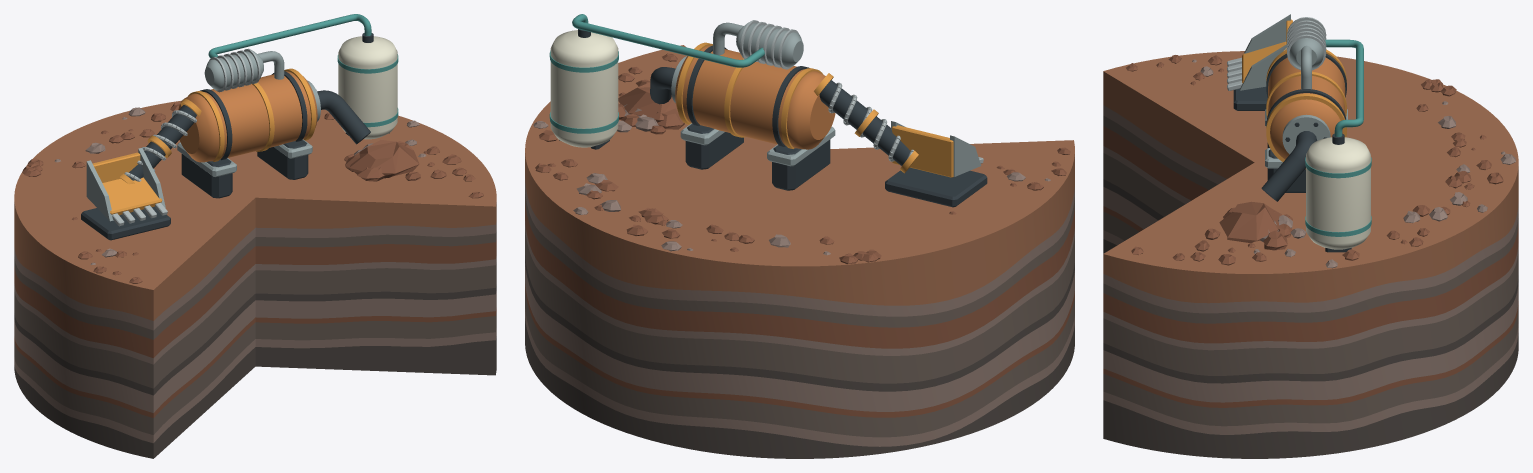
The model's file is p1_zone_c_gale_clay_kiln.glb.
3 renders of one model, left to right at view 1: azimuth 30°, elevation 25°; view 2: azimuth 150°, elevation 25°; view 3: azimuth 270°, elevation 25°, orthographic. The views are drawn at different scales.
Parts seen in each view (by area): view 1: Sedimentary beds, Regolith, Rotary kiln, Sampling scoop, Storage vessel, Surface clasts, Dry tailings, Inclined screw conveyor, Condenser, Condensate line, Chute; view 2: Sedimentary beds, Regolith, Rotary kiln, Storage vessel, Sampling scoop, Surface clasts, Inclined screw conveyor, Condenser, Dry tailings, Condensate line, Chute; view 3: Sedimentary beds, Regolith, Storage vessel, Rotary kiln, Surface clasts, Sampling scoop, Dry tailings, Condenser, Chute, Condensate line, Vapour riser.
Part boxes in pixels (left/top/right/bottom): Sedimentary beds: left=14, top=222, right=496, bottom=458; Regolith: left=14, top=100, right=496, bottom=320; Rotary kiln: left=177, top=68, right=321, bottom=198; Sampling scoop: left=81, top=148, right=170, bottom=240; Storage vessel: left=337, top=33, right=398, bottom=139; Surface clasts: left=22, top=102, right=483, bottom=283; Dry tailings: left=344, top=140, right=420, bottom=181; Inclined screw conveyor: left=119, top=98, right=201, bottom=184; Condenser: left=204, top=48, right=263, bottom=92; Condensate line: left=208, top=14, right=371, bottom=58; Chute: left=317, top=90, right=370, bottom=144; Sedimentary beds: left=525, top=179, right=1074, bottom=458; Regolith: left=525, top=45, right=1074, bottom=305; Rotary kiln: left=671, top=42, right=835, bottom=190; Storage vessel: left=549, top=29, right=618, bottom=149; Sampling scoop: left=885, top=121, right=987, bottom=207; Surface clasts: left=533, top=53, right=1070, bottom=263; Inclined screw conveyor: left=814, top=73, right=918, bottom=173; Condenser: left=736, top=20, right=803, bottom=69; Dry tailings: left=617, top=83, right=684, bottom=134; Condensate line: left=572, top=14, right=764, bottom=67; Chute: left=650, top=67, right=675, bottom=104; Sedimentary beds: left=1103, top=105, right=1518, bottom=458; Regolith: left=1103, top=51, right=1518, bottom=303; Storage vessel: left=1305, top=133, right=1371, bottom=252; Rotary kiln: left=1265, top=49, right=1347, bottom=192; Surface clasts: left=1126, top=55, right=1516, bottom=268; Sampling scoop: left=1227, top=14, right=1292, bottom=110; Dry tailings: left=1204, top=201, right=1305, bottom=250; Condenser: left=1287, top=17, right=1326, bottom=70; Chute: left=1261, top=131, right=1317, bottom=201; Condensate line: left=1325, top=39, right=1363, bottom=136; Vapour riser: left=1301, top=45, right=1311, bottom=89.
Size of the model in its own units: 7.12 by 4.79 by 5.6.
